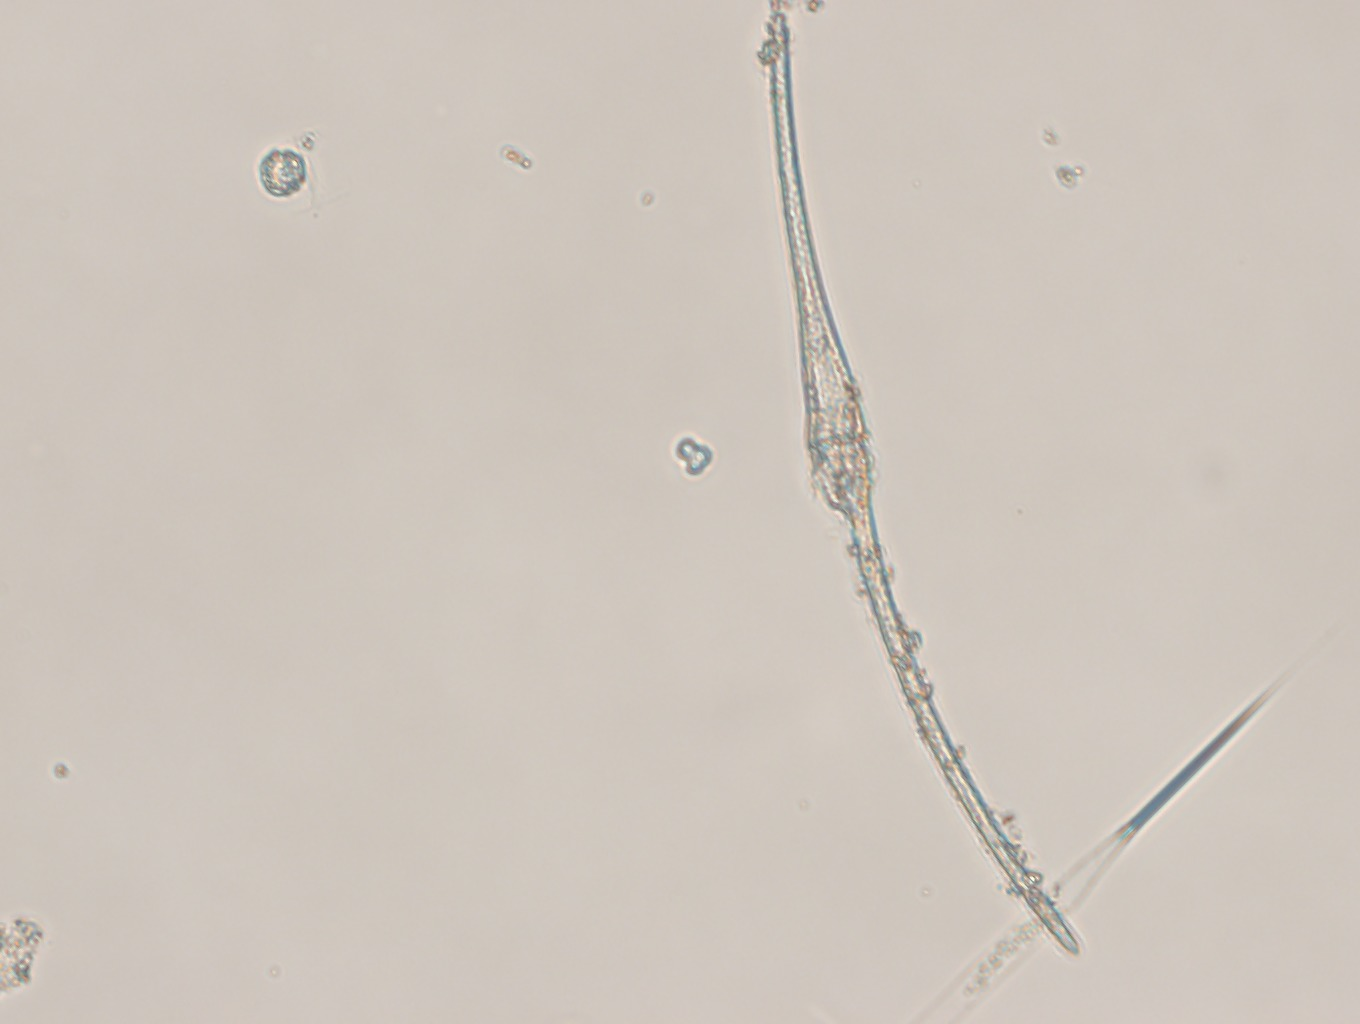ceratium fusus: (760, 8, 1084, 962)
